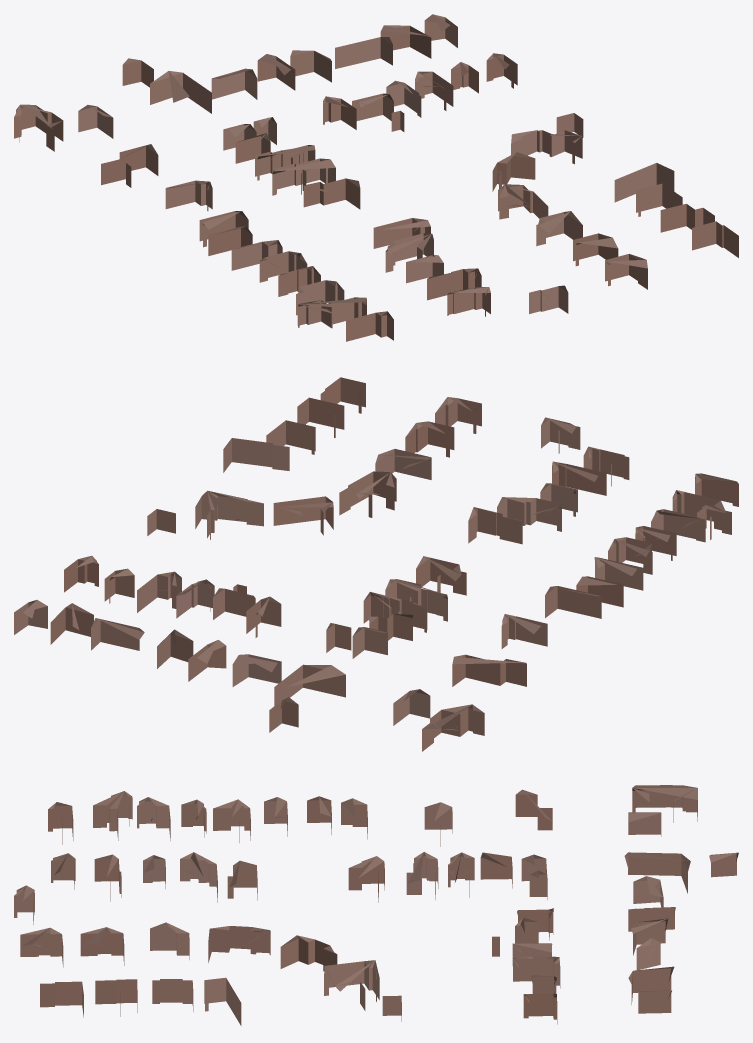
Rendered from c_1637_17835_buildings_residential.glb.
3 views of the same model, one above another, from view 1: azimuth 30°, elevation 25°; view 2: azimuth 150°, elevation 25°; view 3: azimuth 270°, elevation 25° (orthographic). The views are drawn at different scales.
Parts seen in each view (by area): view 1: geometry_0; view 2: geometry_0; view 3: geometry_0.
Boxes of the visible parts, bbox=[...] form: geometry_0: bbox=[14, 14, 738, 341]; geometry_0: bbox=[14, 377, 738, 751]; geometry_0: bbox=[14, 785, 738, 1025].
Size of the model in its own units: 193 by 12.02 by 264.
